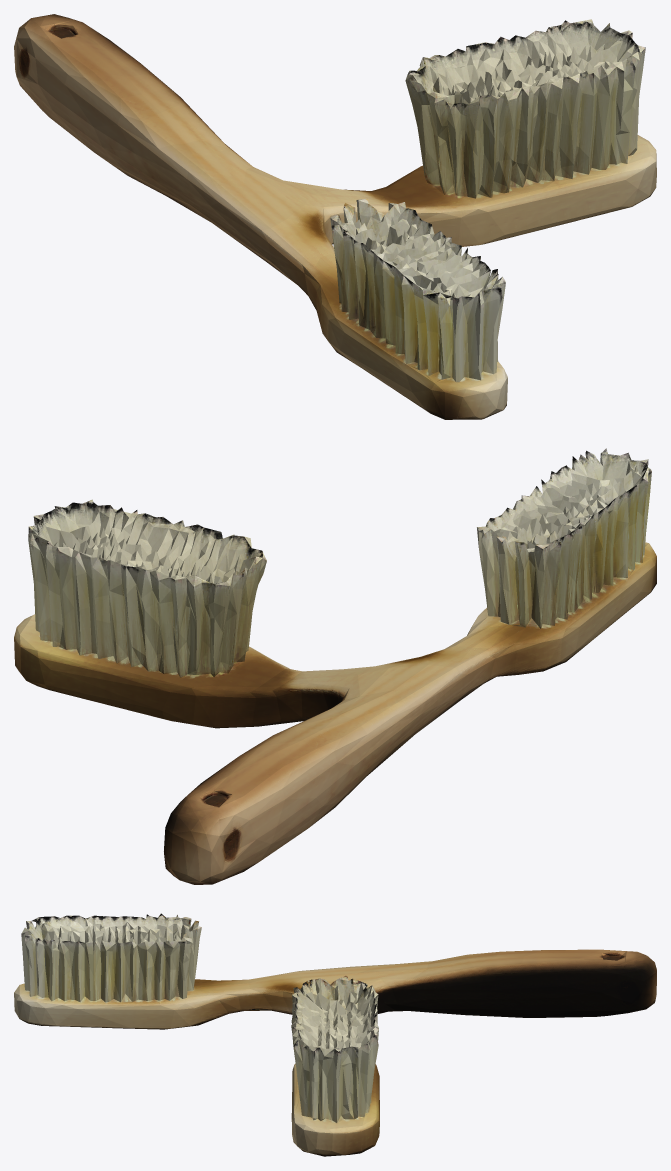
File: bamboo-toothbrush-vintage.jpeg.glb
The picture shows the model from 3 angles, top to bottom: view 1: azimuth 30°, elevation 25°; view 2: azimuth 150°, elevation 25°; view 3: azimuth 270°, elevation 25°; orthographic projection. The views are drawn at different scales.
Visible parts, largest first — view 1: world; view 2: world; view 3: world.
Boxes of the visible parts, x1,y1,x2,y2 form: world: [14, 14, 656, 419]; world: [14, 448, 656, 884]; world: [14, 913, 656, 1156].
Size of the model in its own units: 0.5474 by 0.1833 by 1.
Materials: 1 (1 with a texture image).
